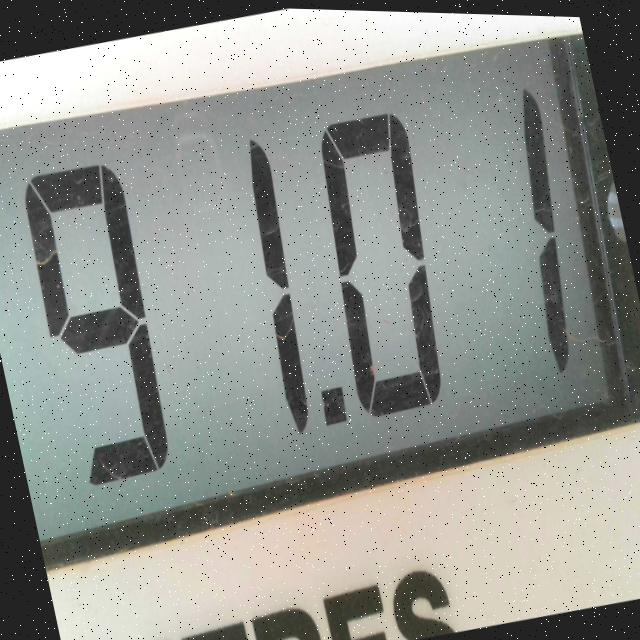.: (309, 357, 361, 439)
0: (291, 84, 486, 429)
1: (191, 119, 332, 449), (474, 68, 606, 392)
9: (0, 145, 222, 512)
